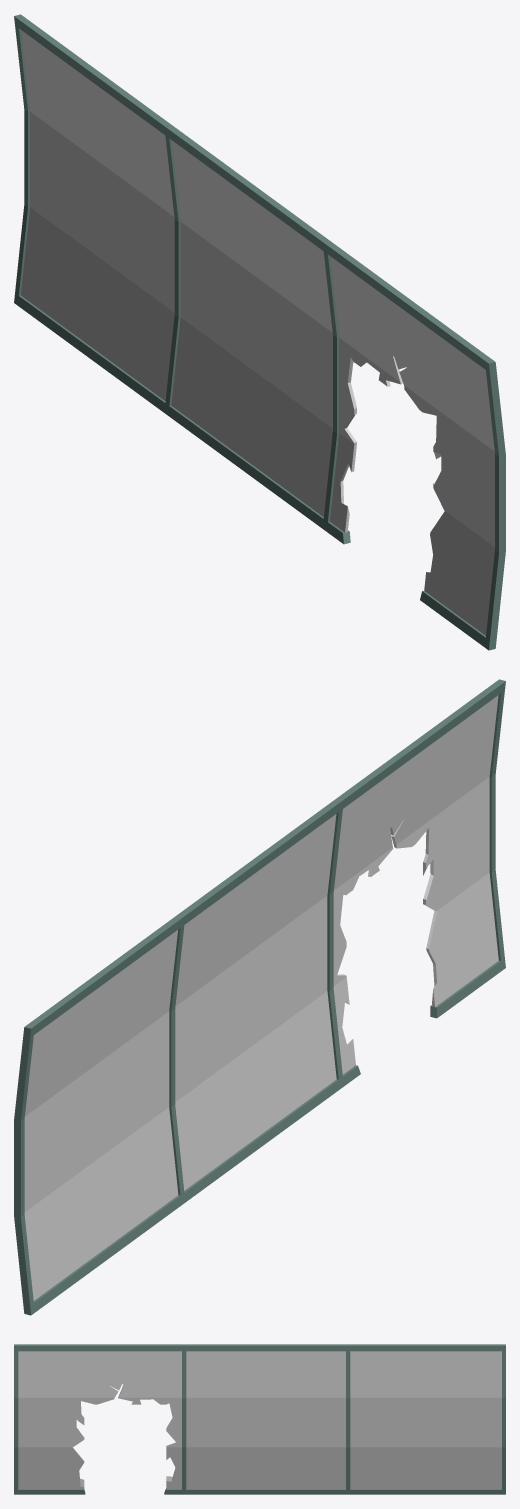
The model's file is Vetrata12x4_Rotta.fbx.
The picture shows the model from 3 angles, top to bottom: view 1: azimuth 30°, elevation 25°; view 2: azimuth 150°, elevation 25°; view 3: azimuth 270°, elevation 25°; orthographic projection. The views are drawn at different scales.
Parts seen in each view (by area): view 1: Vetro, Telaio; view 2: Vetro, Telaio; view 3: Vetro, Telaio.
Part boxes in pixels (box(x1,y1,x2,y2)): Vetro: box(21, 30, 494, 635); Telaio: box(14, 14, 505, 650); Vetro: box(24, 695, 498, 1300); Telaio: box(14, 679, 505, 1315); Vetro: box(18, 1351, 501, 1489); Telaio: box(14, 1344, 505, 1494).
Size of the model in its own units: 25 by 400 by 1200.
